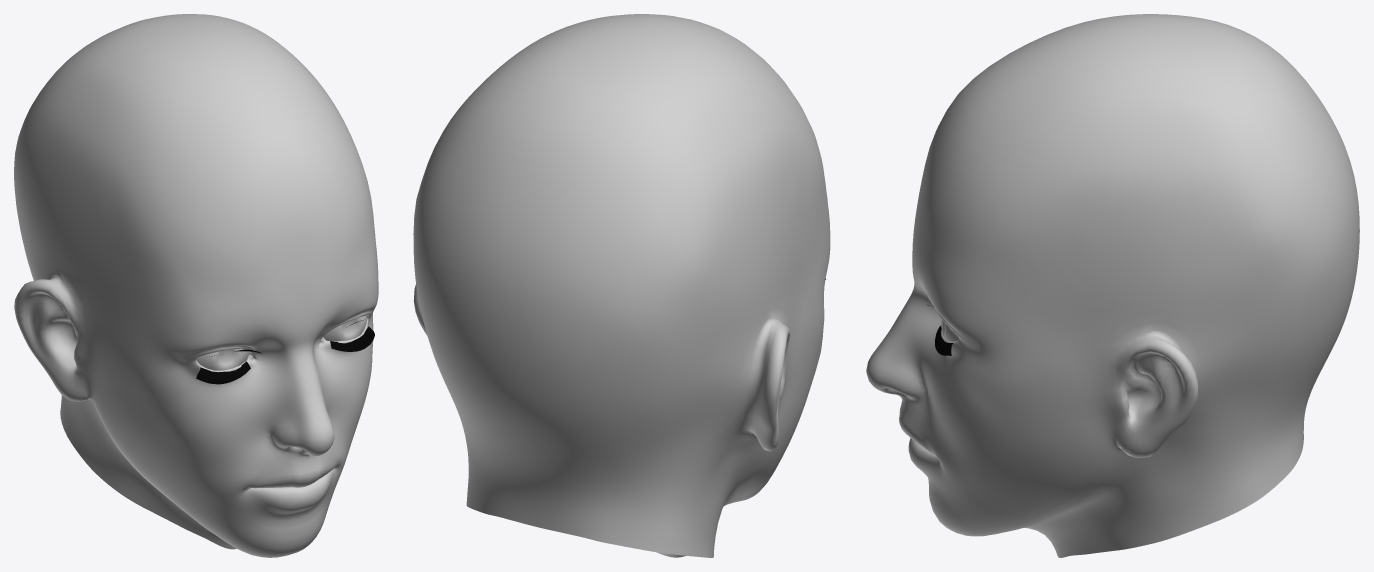
3 renders of one model, left to right at view 1: azimuth 30°, elevation 25°; view 2: azimuth 150°, elevation 25°; view 3: azimuth 270°, elevation 25°, orthographic. The views are drawn at different scales.
Visible parts, largest first — view 1: SK_11:Group2, SM_eye03, jiemao; view 2: SK_11:Group2; view 3: SK_11:Group2.
Boxes of the visible parts, <box> form: SK_11:Group2: <box>14,14,378,557</box>; SM_eye03: <box>197,315,366,370</box>; jiemao: <box>196,320,374,384</box>; SK_11:Group2: <box>413,14,830,557</box>; SK_11:Group2: <box>866,14,1359,557</box>.
Size of the model in its own units: 16.97 by 24.55 by 21.
